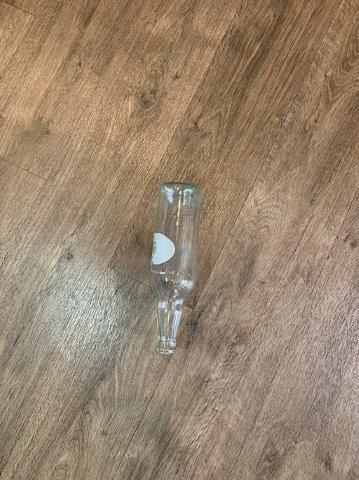botolkaca: (152, 184, 199, 357)
